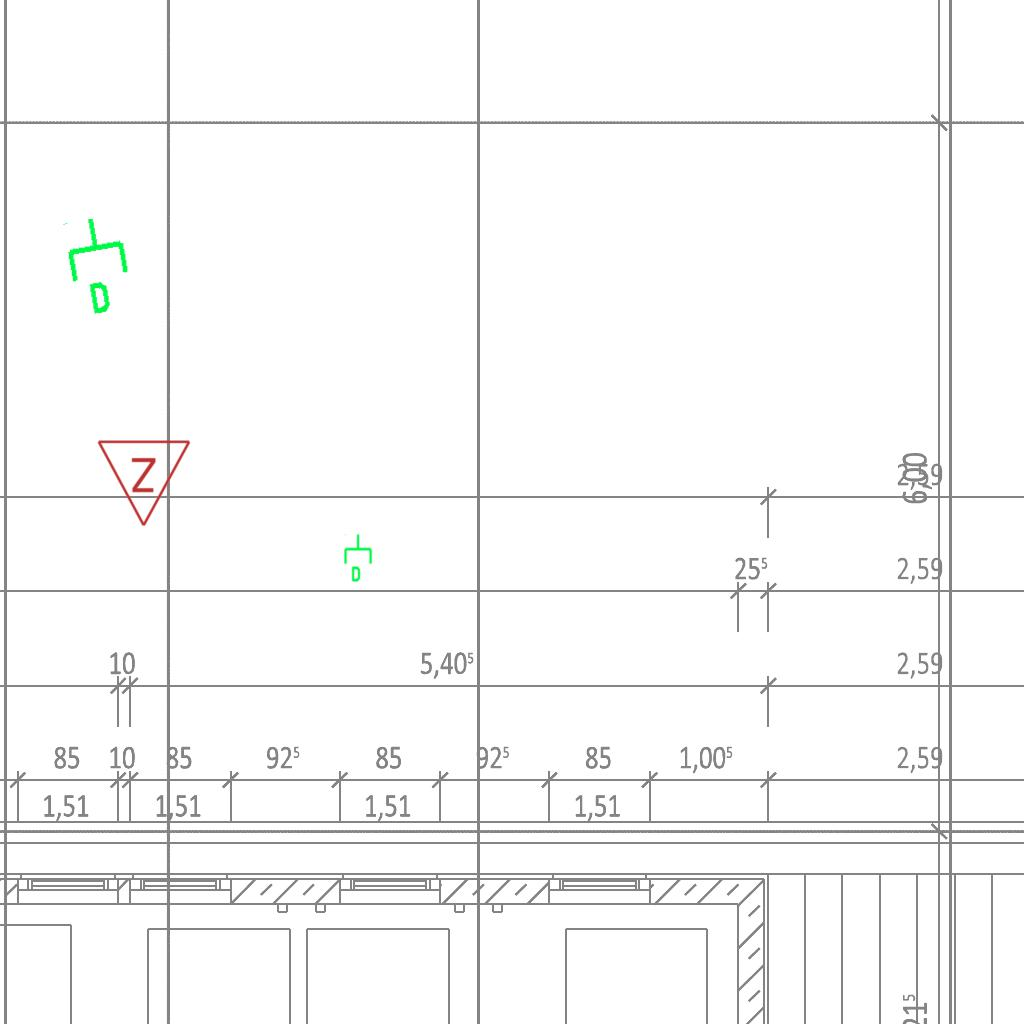Datenanschluss_einfach: (57, 209, 144, 321), (342, 533, 376, 583)
Zimmersignalleuchte: (96, 433, 194, 533)
